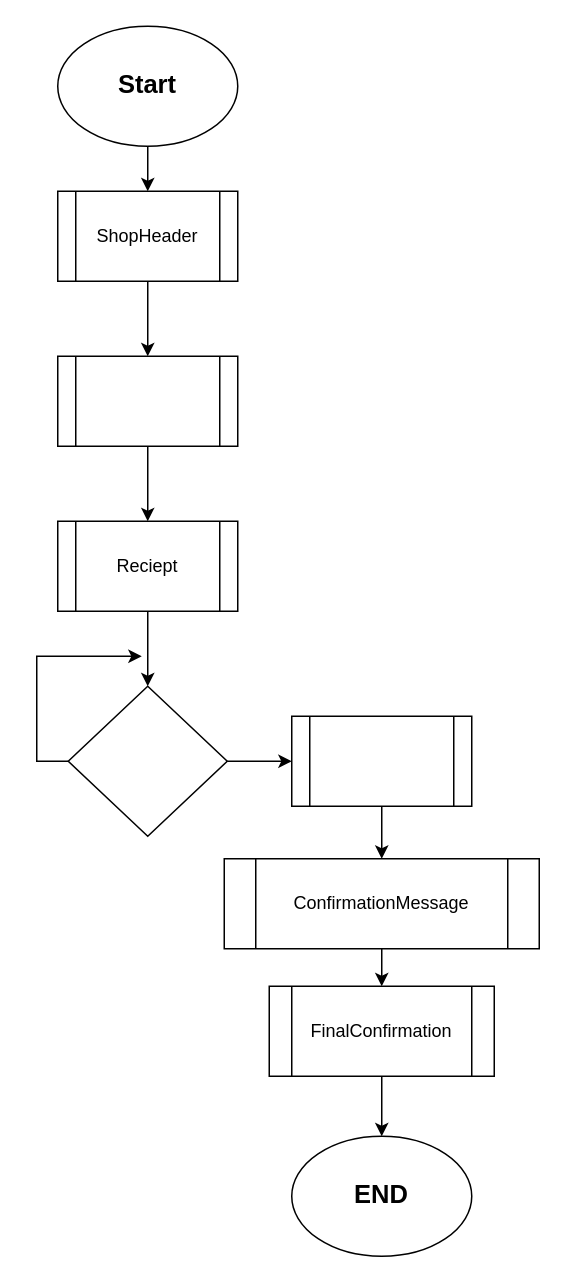
Image size: 566x1283. Some labels were removed from this diagram. The shapes that lost their labels are listed below. From the top down, each one's box as (x1, y1, x2, y2) in pixels, then its label:
(56, 355, 238, 446): ProductList
(67, 685, 227, 836): Place Order ?
(290, 715, 472, 806): PlaceOrder
